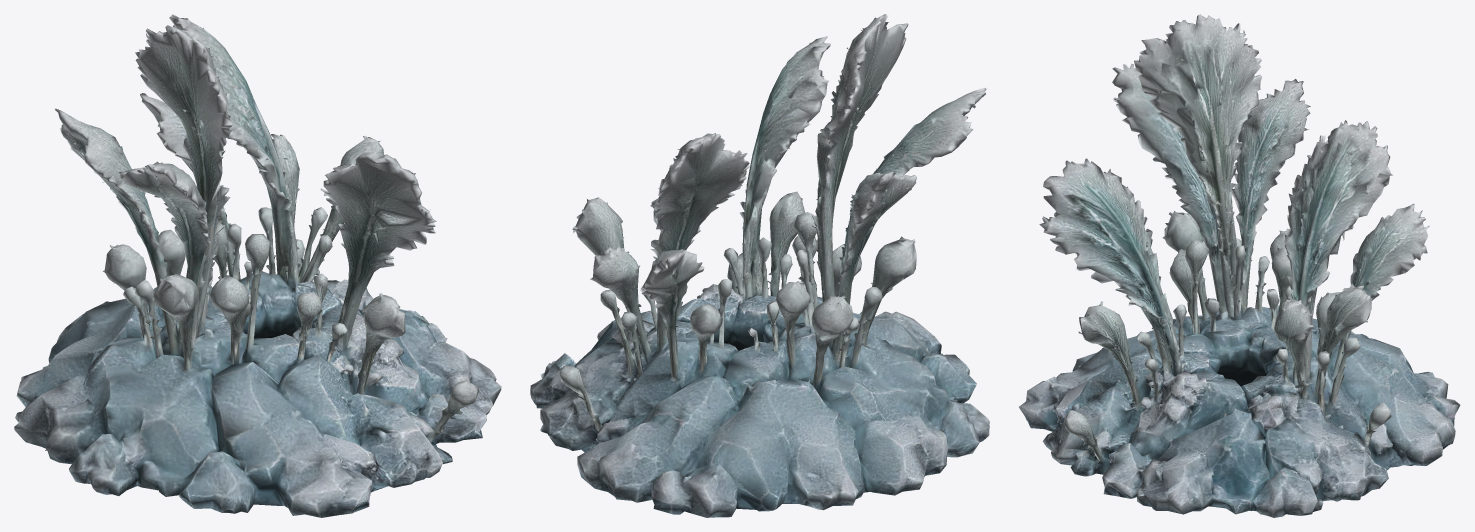
The model's file is enceladus-fans.glb.
The picture shows the model from 3 angles, left to right: view 1: azimuth 30°, elevation 25°; view 2: azimuth 150°, elevation 25°; view 3: azimuth 270°, elevation 25°; orthographic projection. The views are drawn at different scales.
Visible parts, largest first — view 1: tripo_node_f3b9ed7b-28f8-4047-b2d5-e0cda0599020; view 2: tripo_node_f3b9ed7b-28f8-4047-b2d5-e0cda0599020; view 3: tripo_node_f3b9ed7b-28f8-4047-b2d5-e0cda0599020.
Part boxes in pixels (x1,y1,x2,y2): tripo_node_f3b9ed7b-28f8-4047-b2d5-e0cda0599020: (14,14,501,517); tripo_node_f3b9ed7b-28f8-4047-b2d5-e0cda0599020: (530,14,989,517); tripo_node_f3b9ed7b-28f8-4047-b2d5-e0cda0599020: (1019,14,1460,517).
Bounding box in the file's own units: 0.9539 × 0.9324 × 0.9985.
Materials: 1 (1 with a texture image).
